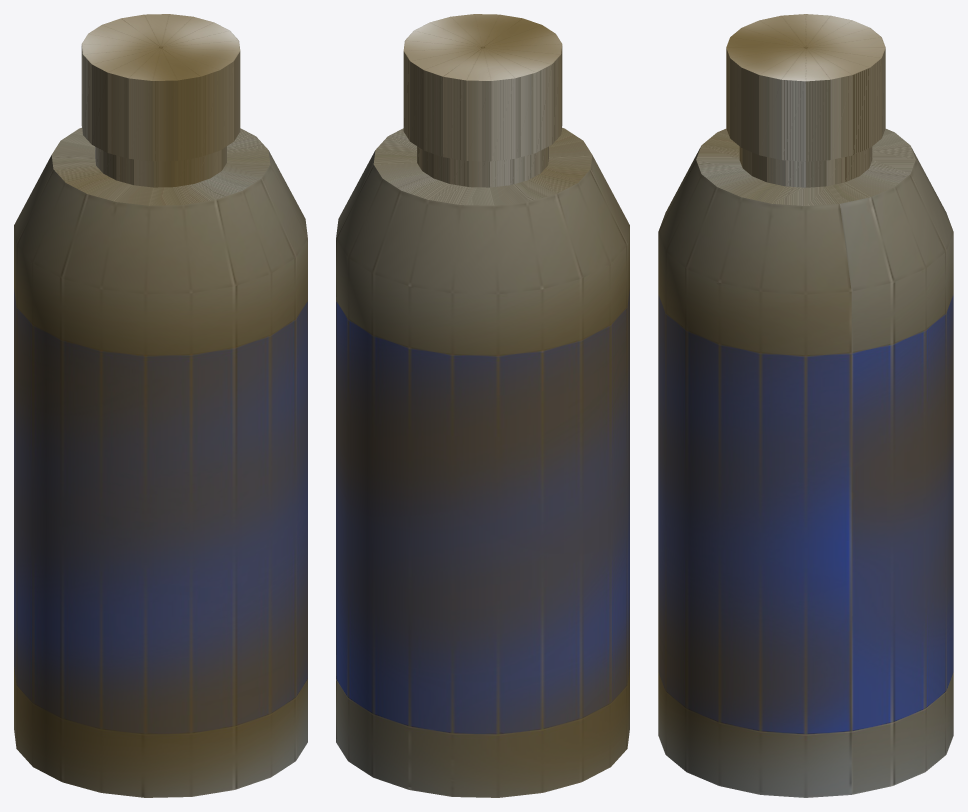
Rendered from Darty_Petbotol.fbx.
3 views of the same model, side by side, from view 1: azimuth 30°, elevation 25°; view 2: azimuth 150°, elevation 25°; view 3: azimuth 270°, elevation 25° (orthographic).
Visible parts, largest first — view 1: pCylinder1; view 2: pCylinder1; view 3: pCylinder1.
Part boxes in pixels (x1,y1,x2,y2): pCylinder1: (14,14,307,797); pCylinder1: (336,14,629,797); pCylinder1: (658,14,953,797).
Bounding box in the file's own units: 4.47 × 11.48 × 4.47.
1 material, 1 textured.
